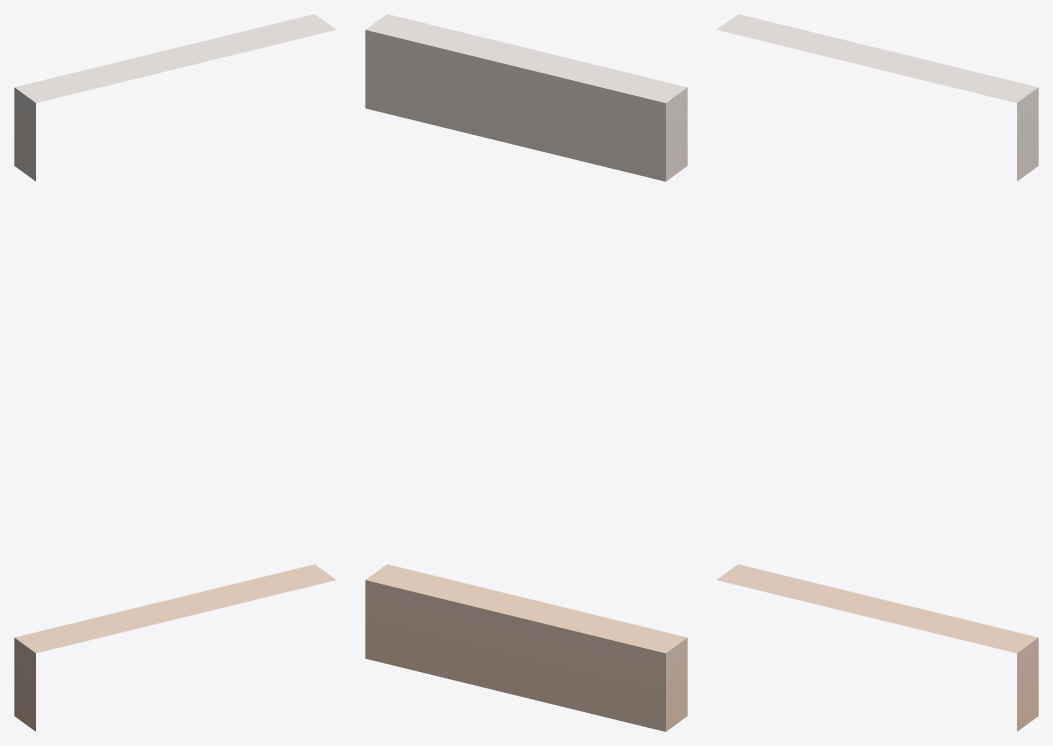
Rendered from wall-modular-panelled-bakery-window-full-center-b.glb.
The picture shows the model from 3 angles, left to right: view 1: azimuth 30°, elevation 25°; view 2: azimuth 150°, elevation 25°; view 3: azimuth 330°, elevation 25°; orthographic projection.
Parts seen in each view (by area): view 1: wall_modular_panelled_bakery_window_full_center_B; view 2: wall_modular_panelled_bakery_window_full_center_B; view 3: wall_modular_panelled_bakery_window_full_center_B.
Boxes of the visible parts, x1,y1,x2,y2 form: wall_modular_panelled_bakery_window_full_center_B: (14,14,336,731); wall_modular_panelled_bakery_window_full_center_B: (365,14,687,731); wall_modular_panelled_bakery_window_full_center_B: (716,14,1038,731).
Bounding box in the file's own units: 2 × 4 × 0.25.
1 material, 1 textured.
